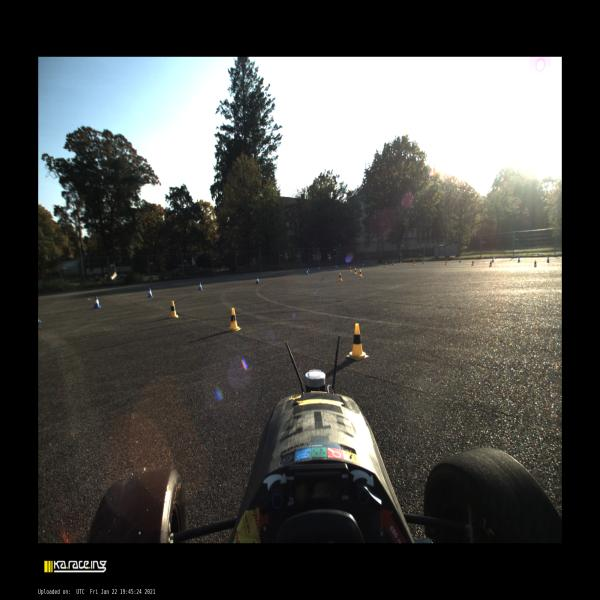blue_cone: (93, 296, 101, 308), (148, 288, 153, 297), (198, 282, 203, 290), (255, 276, 260, 284), (492, 257, 495, 262), (38, 318, 41, 323), (518, 256, 520, 262), (547, 257, 549, 263), (306, 270, 308, 275), (308, 268, 310, 273), (422, 259, 424, 264), (318, 266, 320, 270), (335, 265, 337, 269), (392, 261, 394, 265), (459, 259, 461, 262), (363, 263, 364, 266)
yellow_cone: (346, 324, 368, 360), (226, 308, 240, 331), (168, 301, 179, 317), (338, 273, 343, 281), (359, 269, 363, 277), (348, 266, 352, 272), (534, 260, 537, 268), (354, 268, 357, 274), (489, 261, 492, 267), (413, 261, 416, 266), (445, 260, 448, 265), (385, 262, 387, 267), (472, 260, 474, 265)
